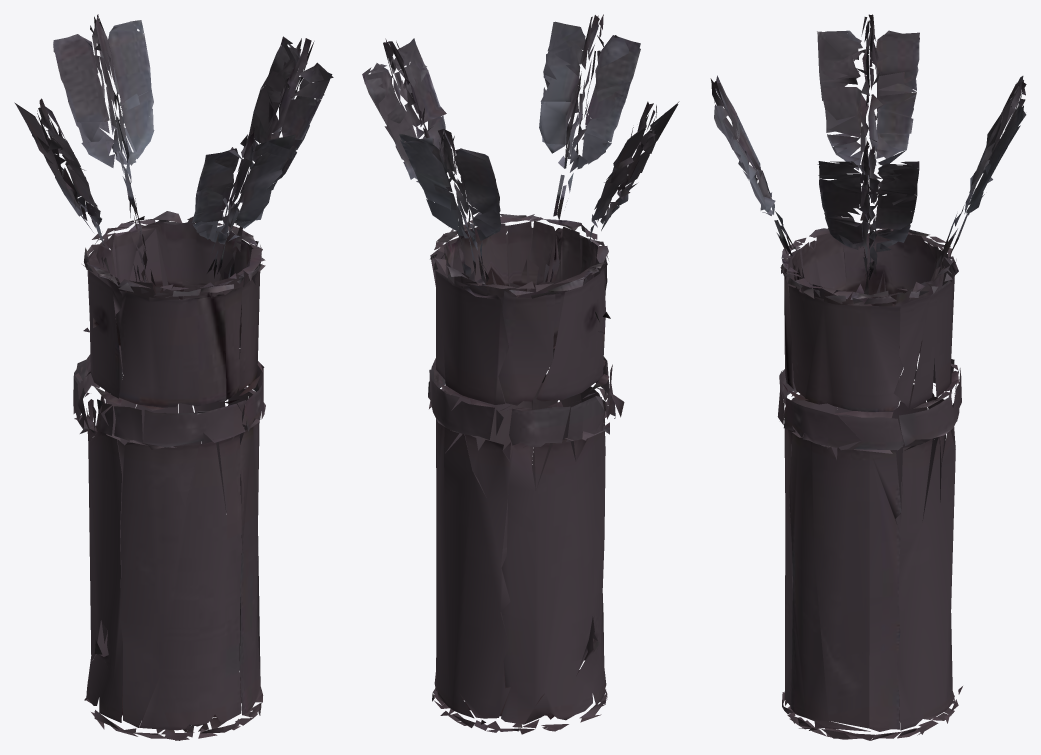
The model's file is quiver.glb.
The picture shows the model from 3 angles, left to right: view 1: azimuth 30°, elevation 25°; view 2: azimuth 150°, elevation 25°; view 3: azimuth 270°, elevation 25°; orthographic projection.
Visible parts, largest first — view 1: Quiver3; view 2: Quiver3; view 3: Quiver3.
Part boxes in pixels (box(x1,y1,x2,y2)): Quiver3: box(14, 14, 333, 740); Quiver3: box(362, 14, 679, 734); Quiver3: box(710, 14, 1026, 740).
Size of the model in its own units: 0.2728 by 0.6043 by 0.2749.
Materials: 1 (1 with a texture image).
